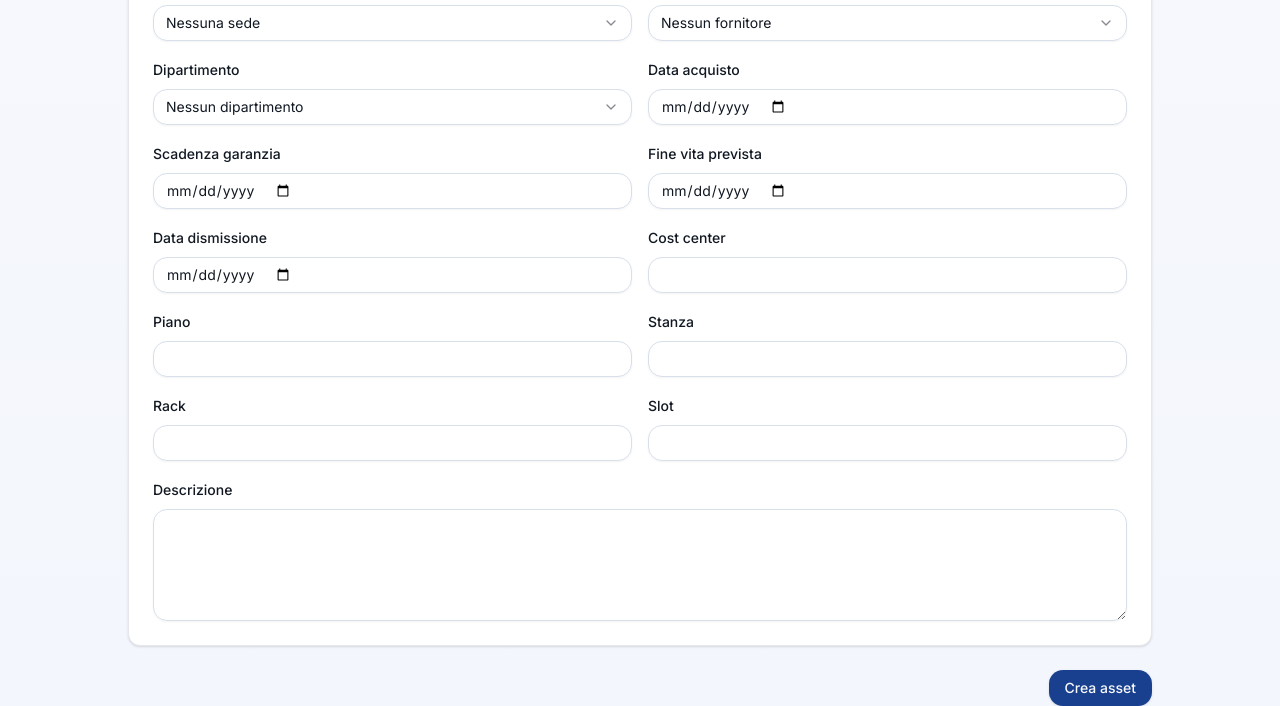
Scenario: AssetFormPage › shows validation errors when submitting an empty form
(page scrolled)
Click the button "Crea asset".
click(1100, 688)  # box x1=1048 y1=670 x2=1152 y2=705
(page scrolled)
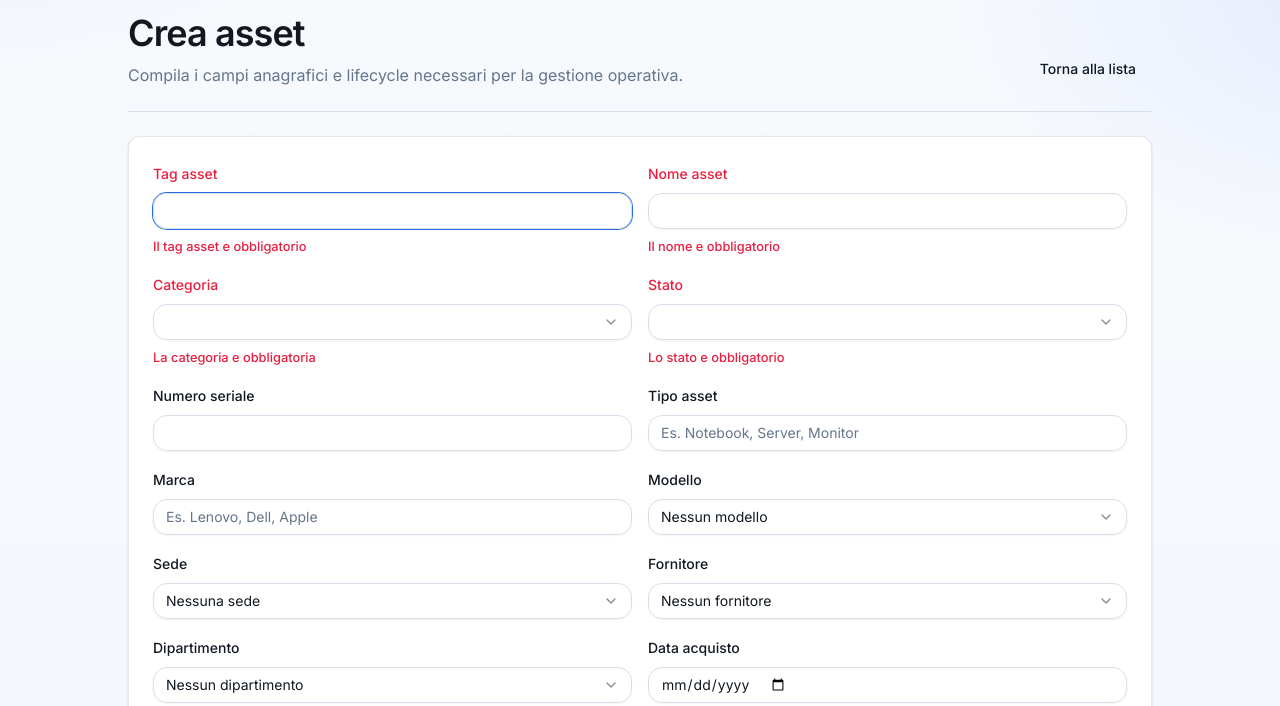
Result: the text "Il nome e obbligatorio" is shown at x1=648 y1=238 x2=780 y2=254
Result: the text "La categoria e obbligatoria" is shown at x1=153 y1=350 x2=316 y2=365
Result: the text "Lo stato e obbligatorio" is shown at x1=648 y1=350 x2=784 y2=365
